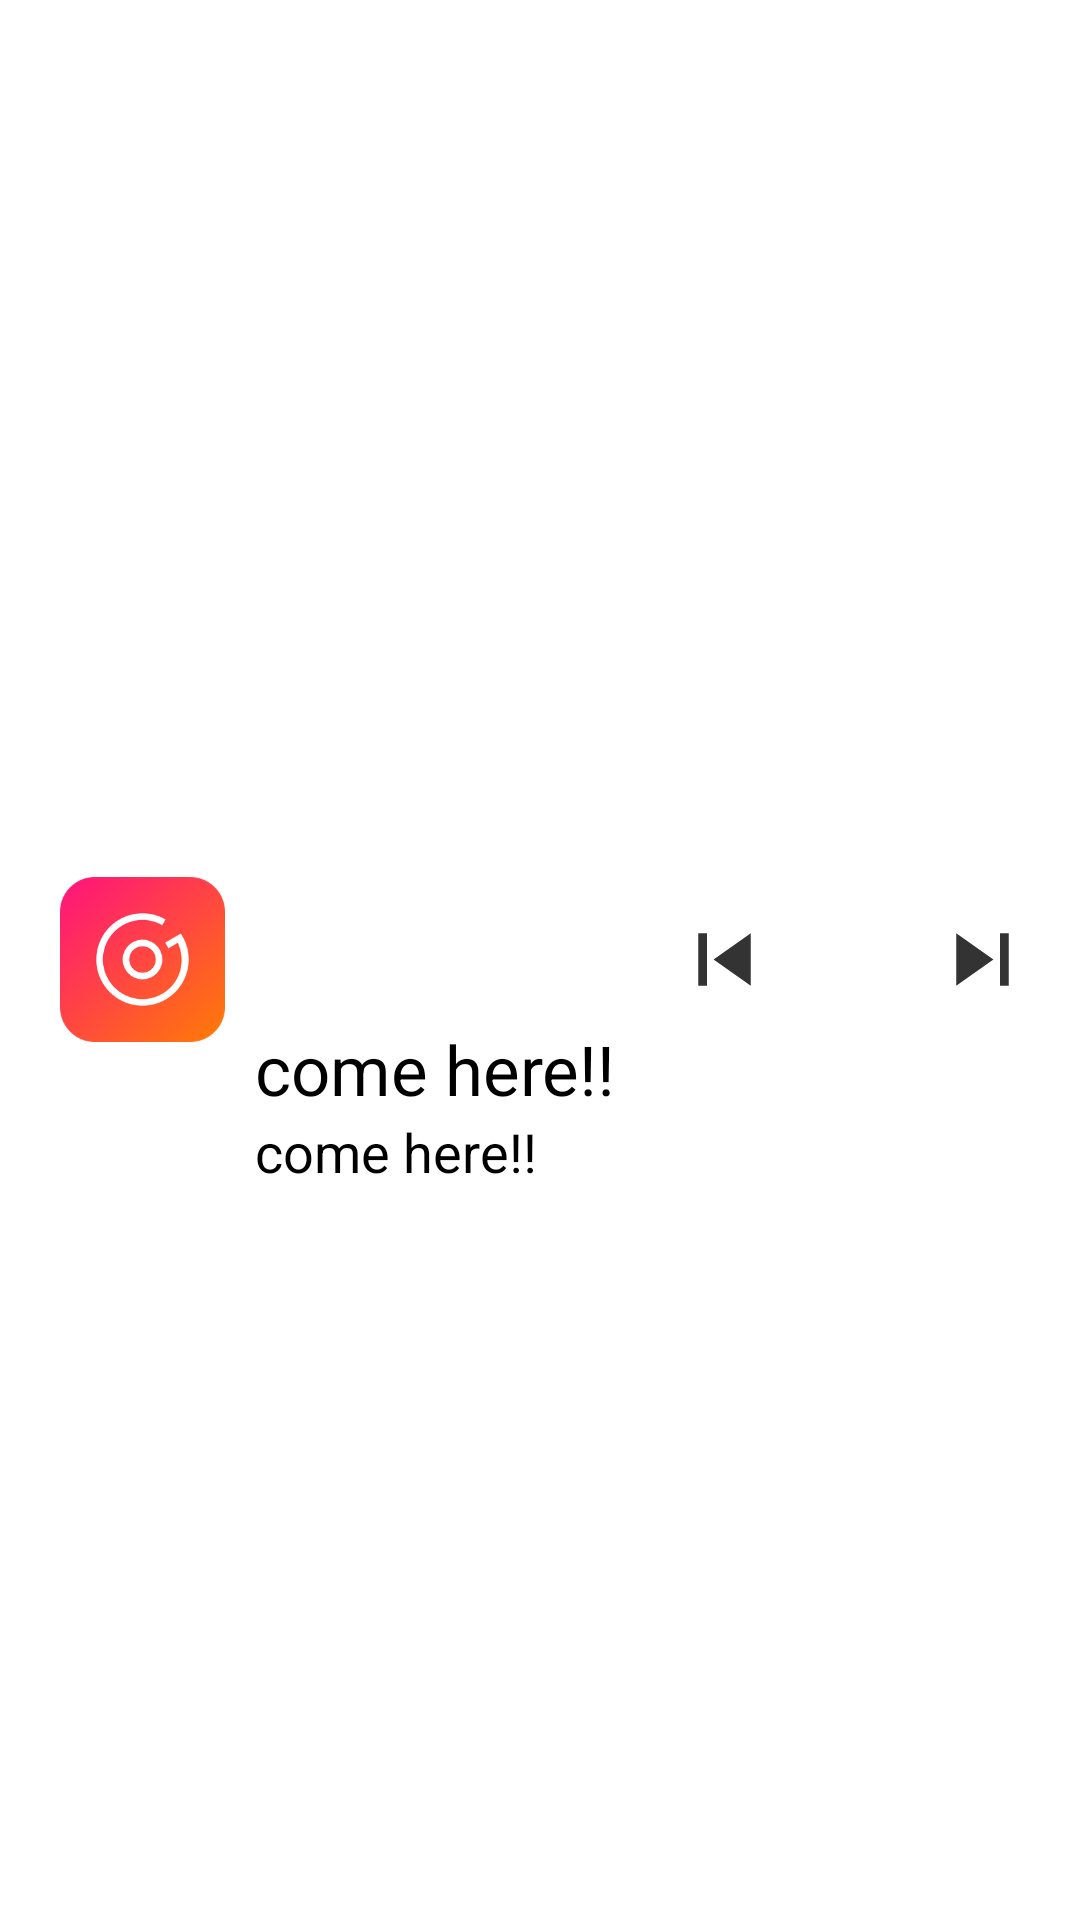

Where icons sit on this 1080x1920 app screen, as (x1, y1, x2, y2):
music player: (60, 877, 225, 1042)
next: (956, 933, 1009, 986)
prev: (698, 933, 751, 986)
